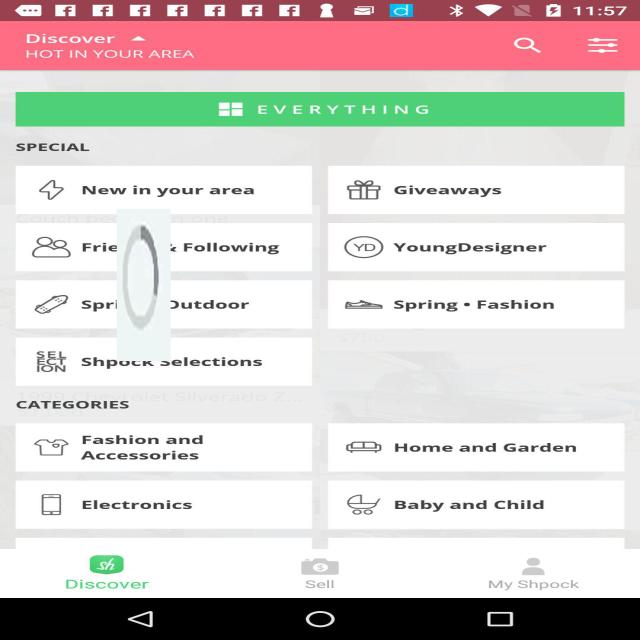misdirection: (116, 209, 170, 361)
